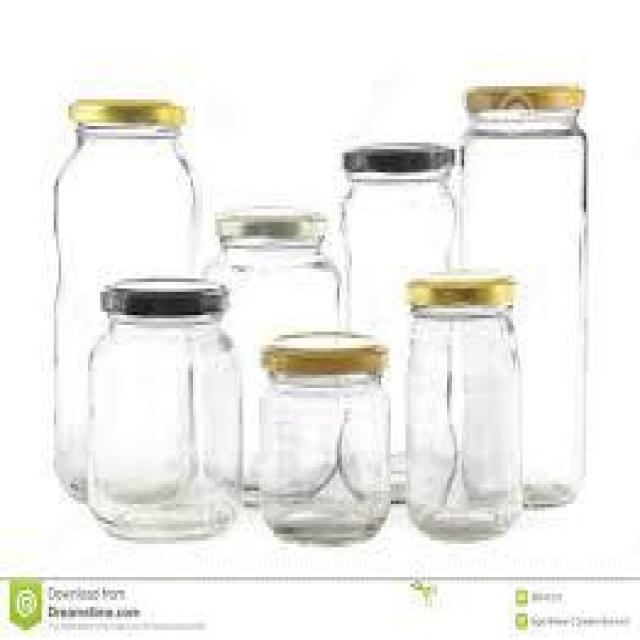non-organic waste: (84, 275, 243, 544), (402, 268, 524, 544), (259, 324, 391, 546)
